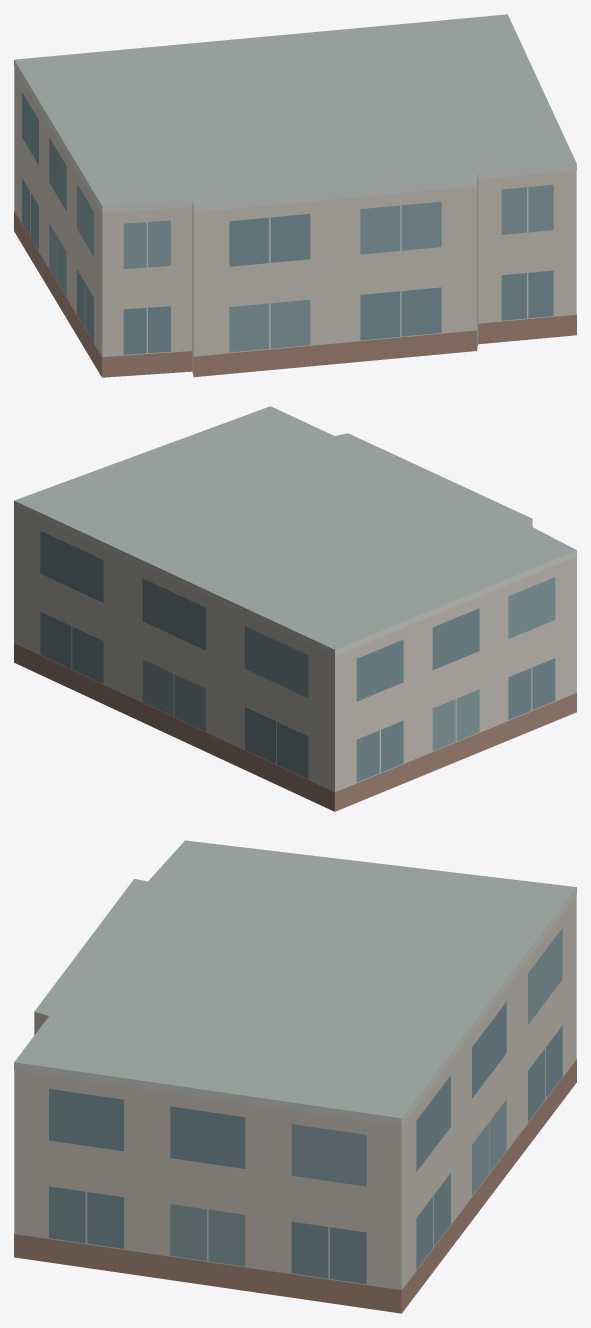
The model's file is survey-upis-32673415.glb.
3 renders of one model, top to bottom at view 1: azimuth 30°, elevation 25°; view 2: azimuth 150°, elevation 25°; view 3: azimuth 270°, elevation 25°, orthographic. The views are drawn at different scales.
Visible parts, largest first — view 1: survey-upis-32673415.tmp; view 2: survey-upis-32673415.tmp; view 3: survey-upis-32673415.tmp.
Part boxes in pixels (x1,y1,x2,y2): survey-upis-32673415.tmp: (14, 14, 576, 377); survey-upis-32673415.tmp: (14, 406, 576, 811); survey-upis-32673415.tmp: (14, 840, 576, 1313).
Size of the model in its own units: 18.64 by 6.1 by 15.95.
